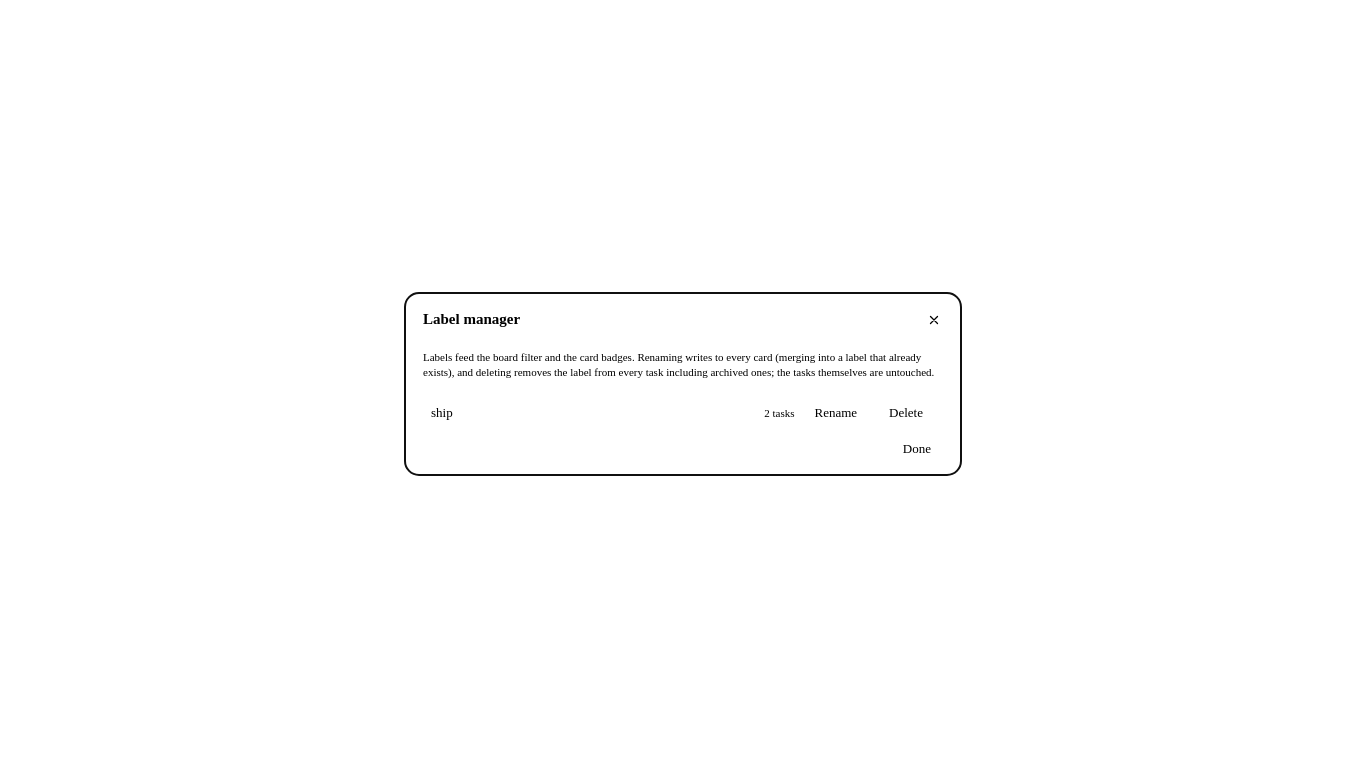
Test: label manager › user deleting a label is asked first, and the question names the usage count
Click the button "Delete" at (906, 413), box [877,405,935,421]
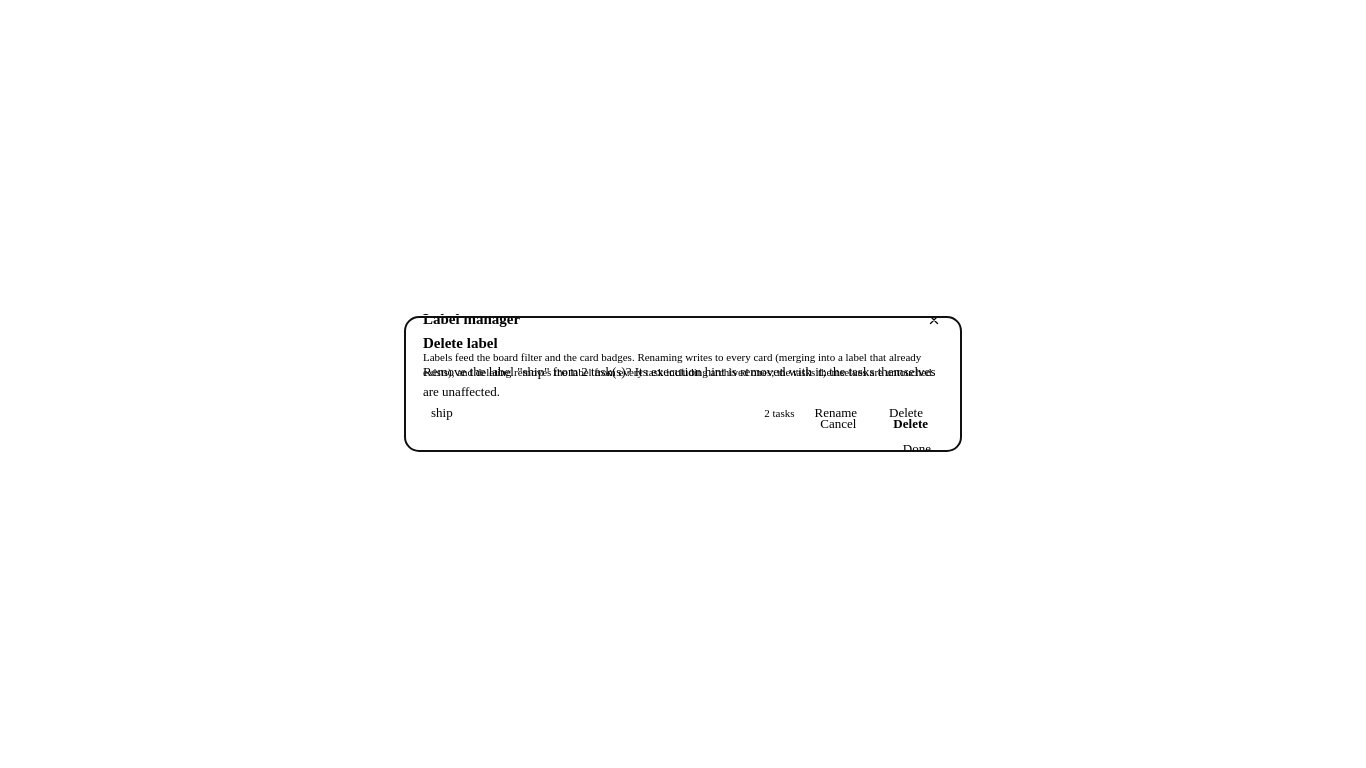
Result: the dialog shows "ship" at [423,364,939,398]
